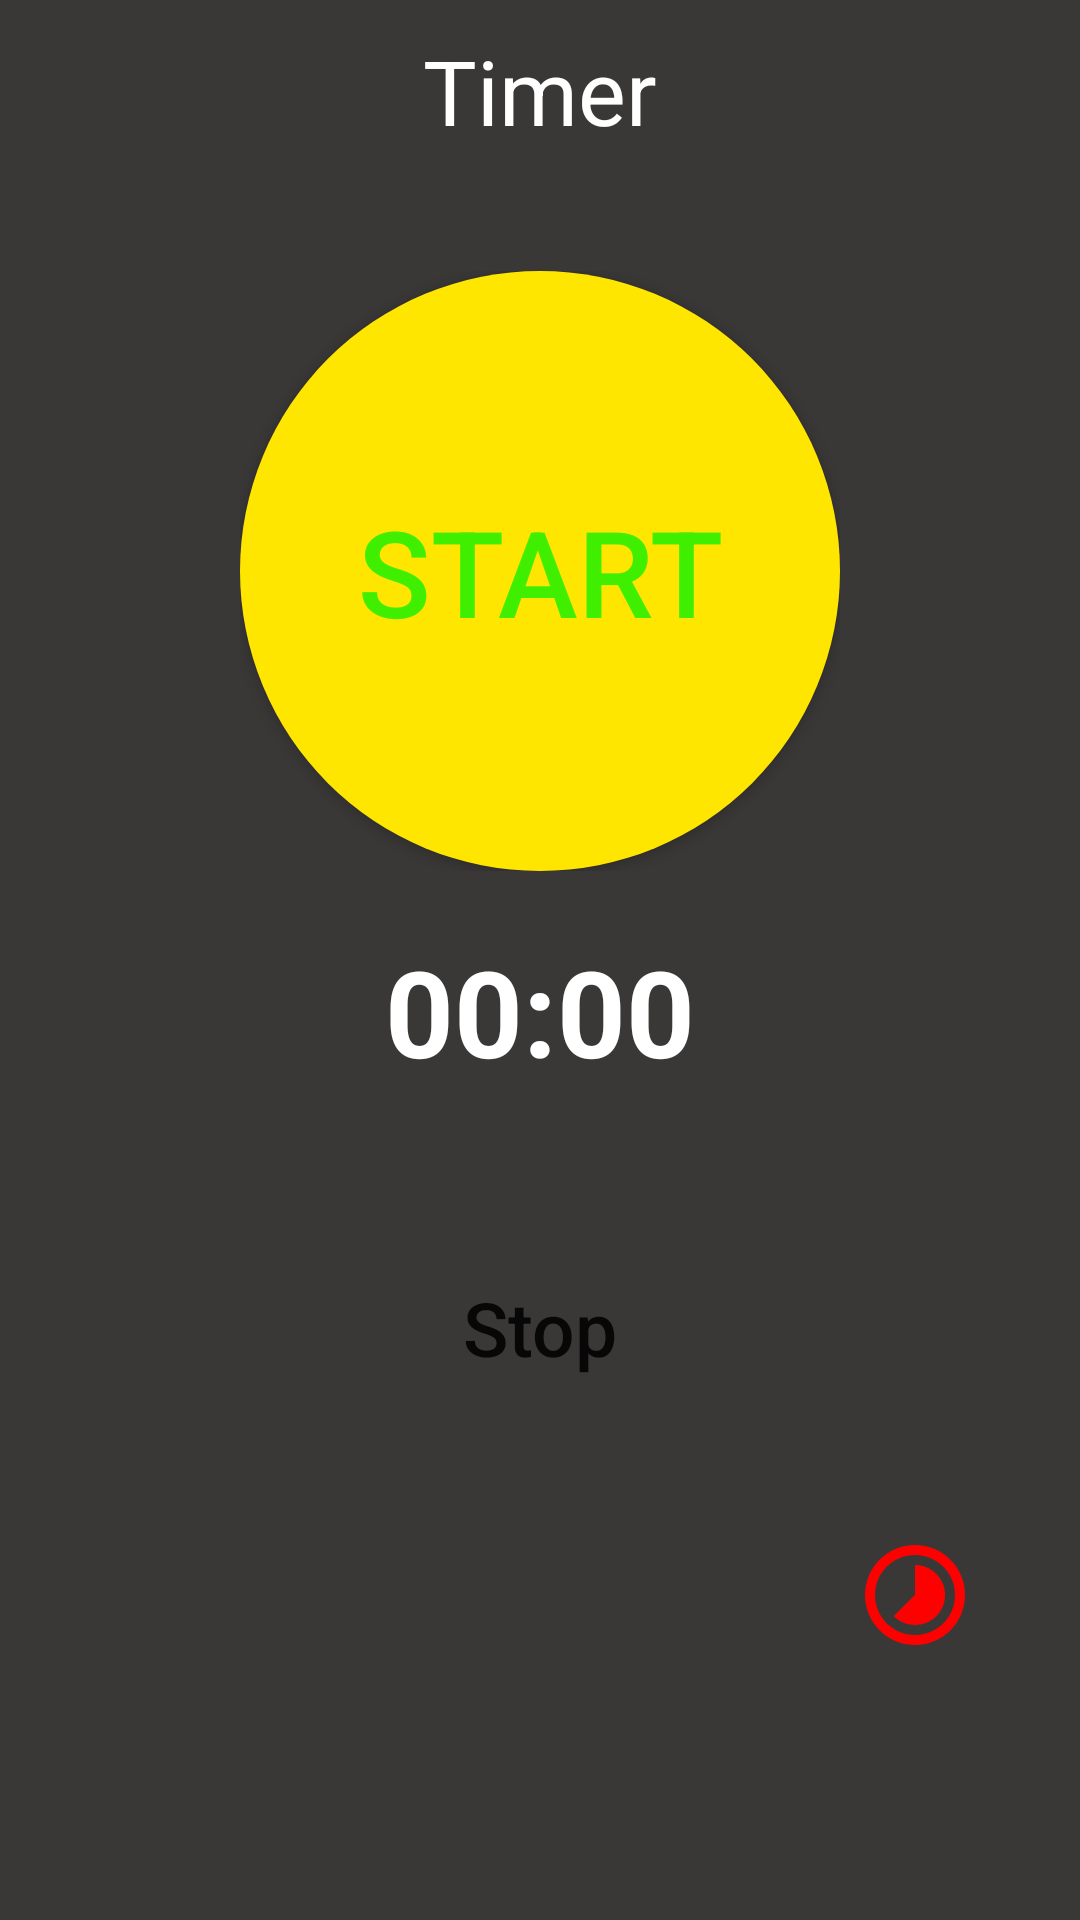

Icon click points for this 1080×1920 phone screenshot, format point (x, y):
timelapse: point (915, 1595)
